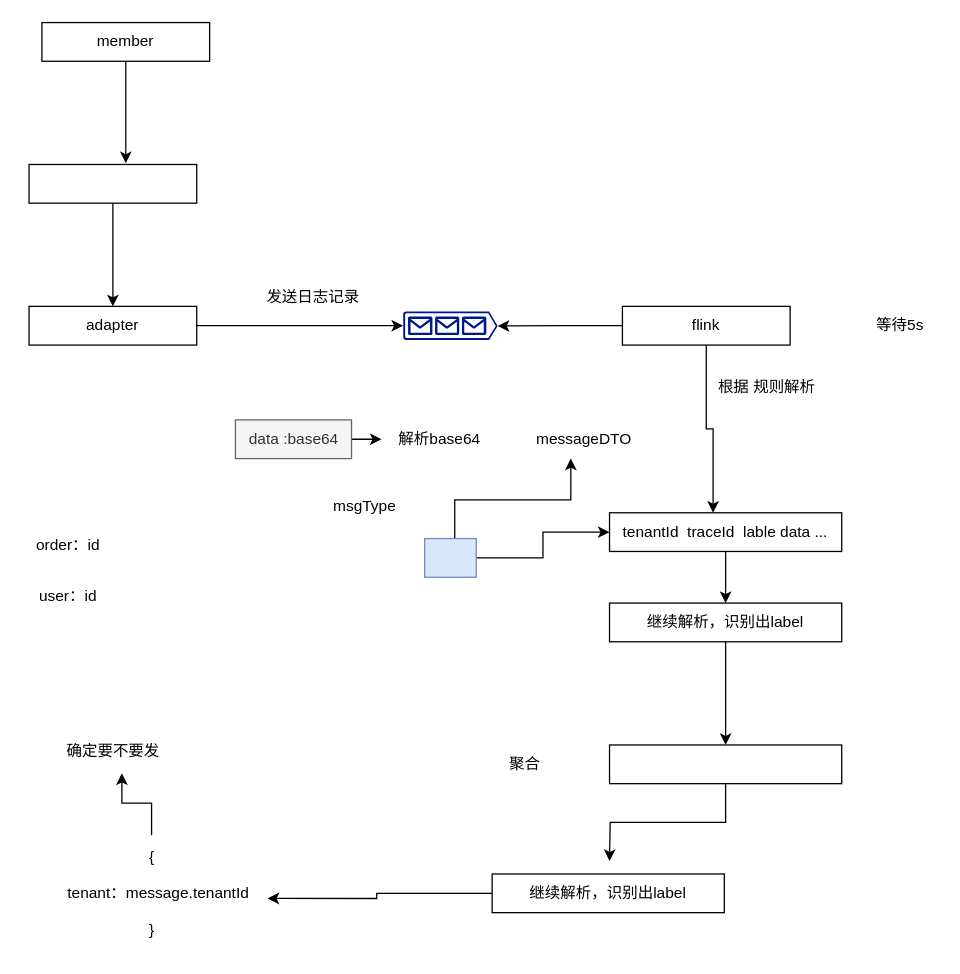
Some shapes in this 960 by 974 pixel diagram are drawn without their labels. The shapes that lost their labels are listed below. From the top down, each one's centre as x and y in pixels, then its label:
At point (112, 183): "booking".
At point (449, 557): "rule".
At point (725, 764): "key by traceId".
